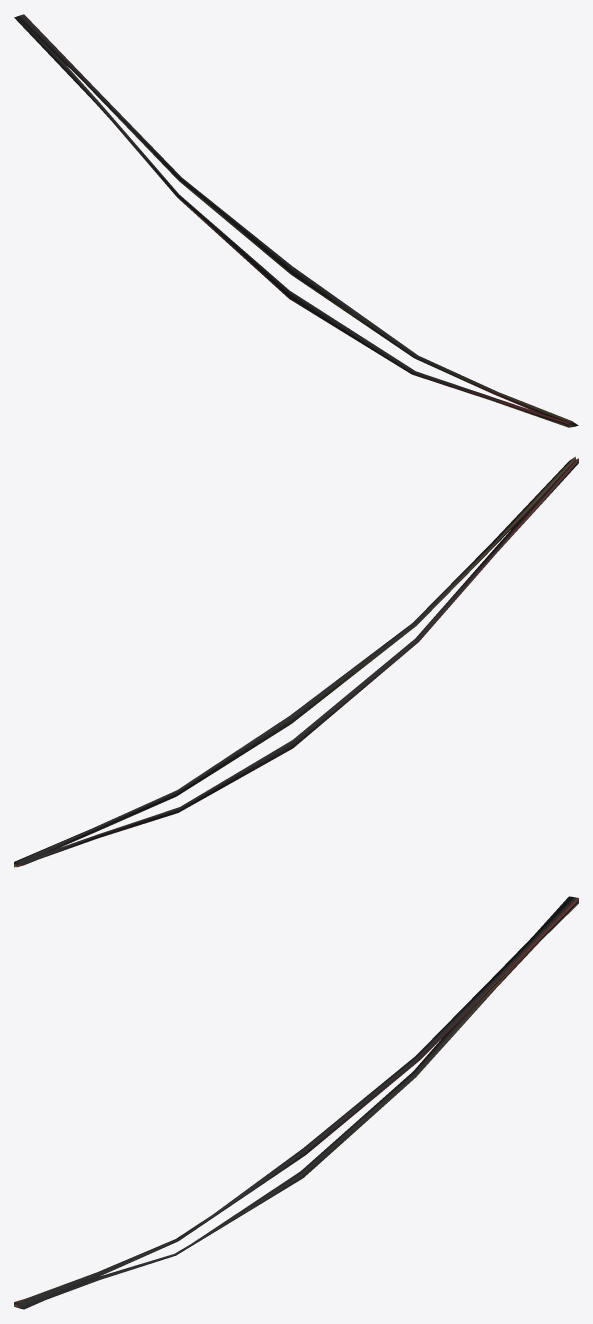
The model's file is ElectricWire01_Art.glb.
3 renders of one model, top to bottom at view 1: azimuth 30°, elevation 25°; view 2: azimuth 150°, elevation 25°; view 3: azimuth 330°, elevation 25°, orthographic.
Visible parts, largest first — view 1: ElectricWire01_Art; view 2: ElectricWire01_Art; view 3: ElectricWire01_Art.
Boxes of the visible parts, box(x1,y1,x2,y2) form: ElectricWire01_Art: box(14, 14, 578, 427); ElectricWire01_Art: box(14, 456, 578, 867); ElectricWire01_Art: box(14, 896, 578, 1309).
Size of the model in its own units: 0.1609 by 1.29 by 15.26.
1 material, 1 textured.
